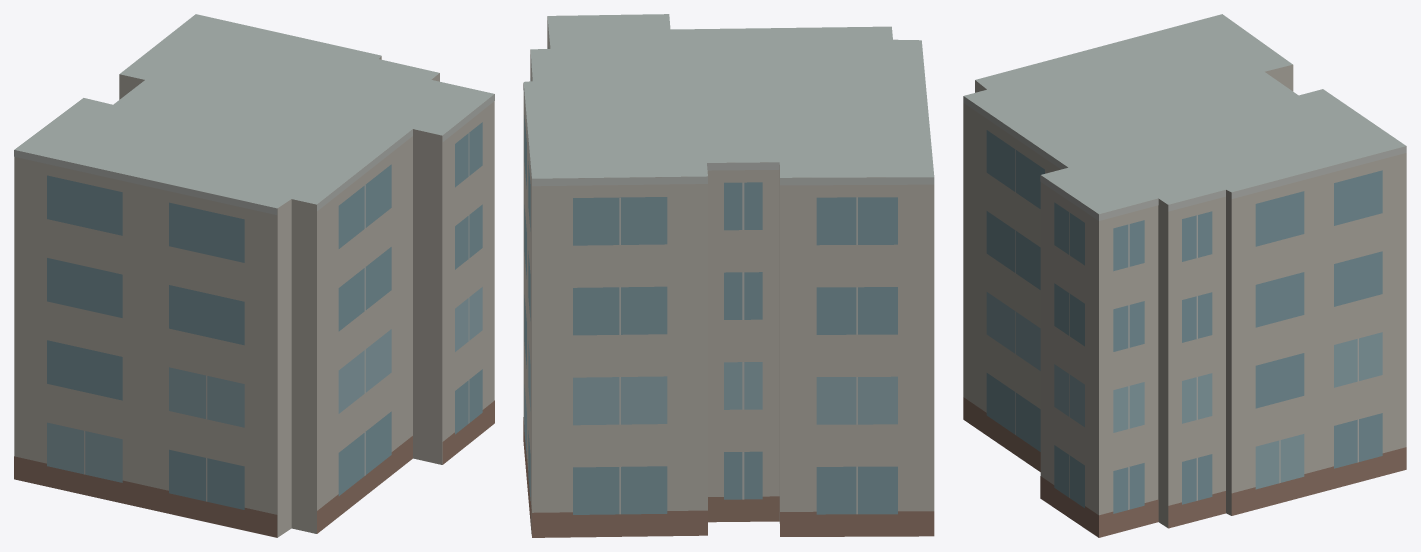
Rendered from survey-upis-32957461.glb.
3 renders of one model, left to right at view 1: azimuth 30°, elevation 25°; view 2: azimuth 150°, elevation 25°; view 3: azimuth 270°, elevation 25°, orthographic. The views are drawn at different scales.
Parts seen in each view (by area): view 1: survey-upis-32957461.tmp; view 2: survey-upis-32957461.tmp; view 3: survey-upis-32957461.tmp.
Boxes of the visible parts, x1,y1,x2,y2 form: survey-upis-32957461.tmp: [14, 14, 494, 537]; survey-upis-32957461.tmp: [523, 14, 934, 537]; survey-upis-32957461.tmp: [963, 14, 1406, 537].
Size of the model in its own units: 15.4 by 11.6 by 14.41.
